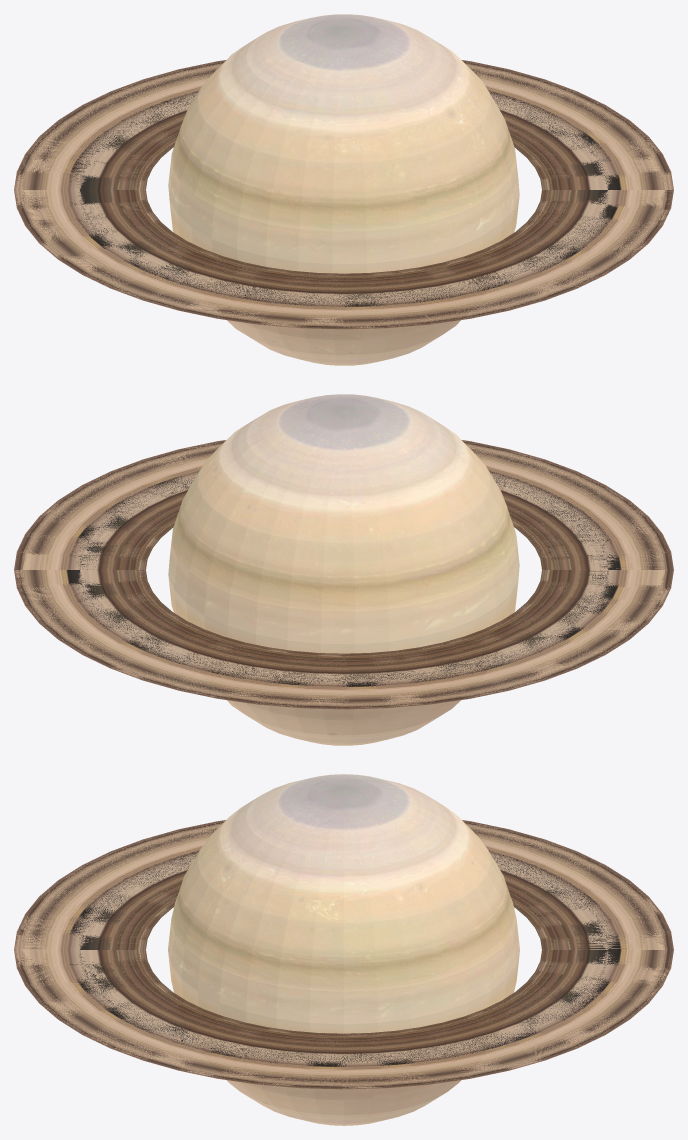
The model's file is saturn.glb.
3 views of the same model, one above another, from view 1: azimuth 30°, elevation 25°; view 2: azimuth 150°, elevation 25°; view 3: azimuth 270°, elevation 25° (orthographic).
Visible parts, largest first — view 1: Object_12, Object_16; view 2: Object_12, Object_16; view 3: Object_12, Object_16.
Part boxes in pixels (bbox=[...]): Object_12: bbox=[168, 14, 519, 365]; Object_16: bbox=[14, 60, 673, 329]; Object_12: bbox=[168, 394, 519, 745]; Object_16: bbox=[14, 440, 673, 709]; Object_12: bbox=[168, 774, 519, 1125]; Object_16: bbox=[14, 820, 673, 1089].
Size of the model in its own units: 3.75 by 2 by 3.75.
Materials: 2 (2 with a texture image).
